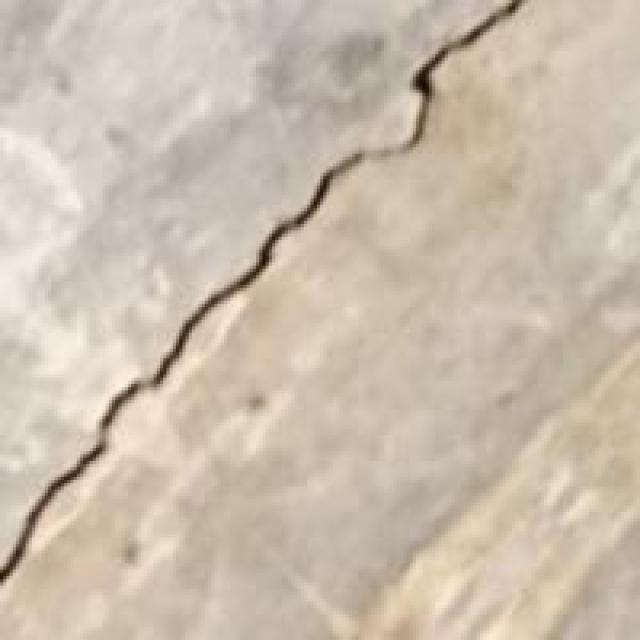crack: (3, 3, 531, 579)
